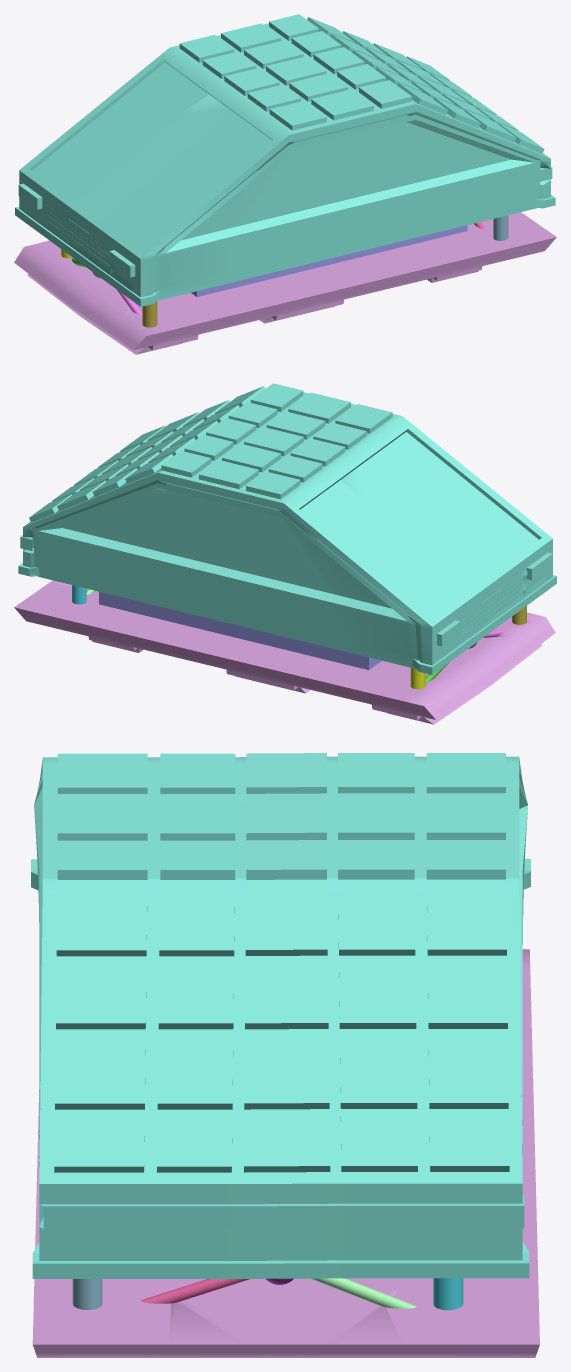
3 renders of one model, top to bottom at view 1: azimuth 30°, elevation 25°; view 2: azimuth 150°, elevation 25°; view 3: azimuth 270°, elevation 25°, orthographic. The views are drawn at different scales.
Visible parts, largest first — view 1: split_parent_0, split_parent_4, Object_5.065; view 2: split_parent_0, split_parent_4, Object_5.065; view 3: split_parent_0, split_parent_4, Object_6, split_parent_12, Object_6.003, Object_6.007.
Part boxes in pixels (x1,y1,x2,y2): split_parent_0: (15,14,555,306); split_parent_4: (14,212,556,354); Object_5.065: (191,225,467,296); split_parent_0: (18,383,556,674); split_parent_4: (14,580,555,724); Object_5.065: (99,591,381,669); split_parent_0: (31,753,530,1278); split_parent_4: (32,949,539,1357); Object_6: (311,1278,416,1308); split_parent_12: (141,1279,249,1303); Object_6.003: (433,1278,463,1310); Object_6.007: (72,1279,102,1309).
Bounding box in the file's own units: 1 × 0.4417 × 0.5245.
